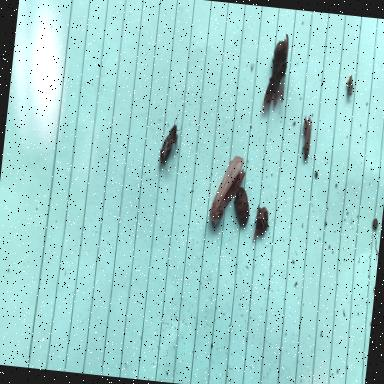abw: (206, 140, 252, 228)
pbw: (299, 113, 314, 164)
